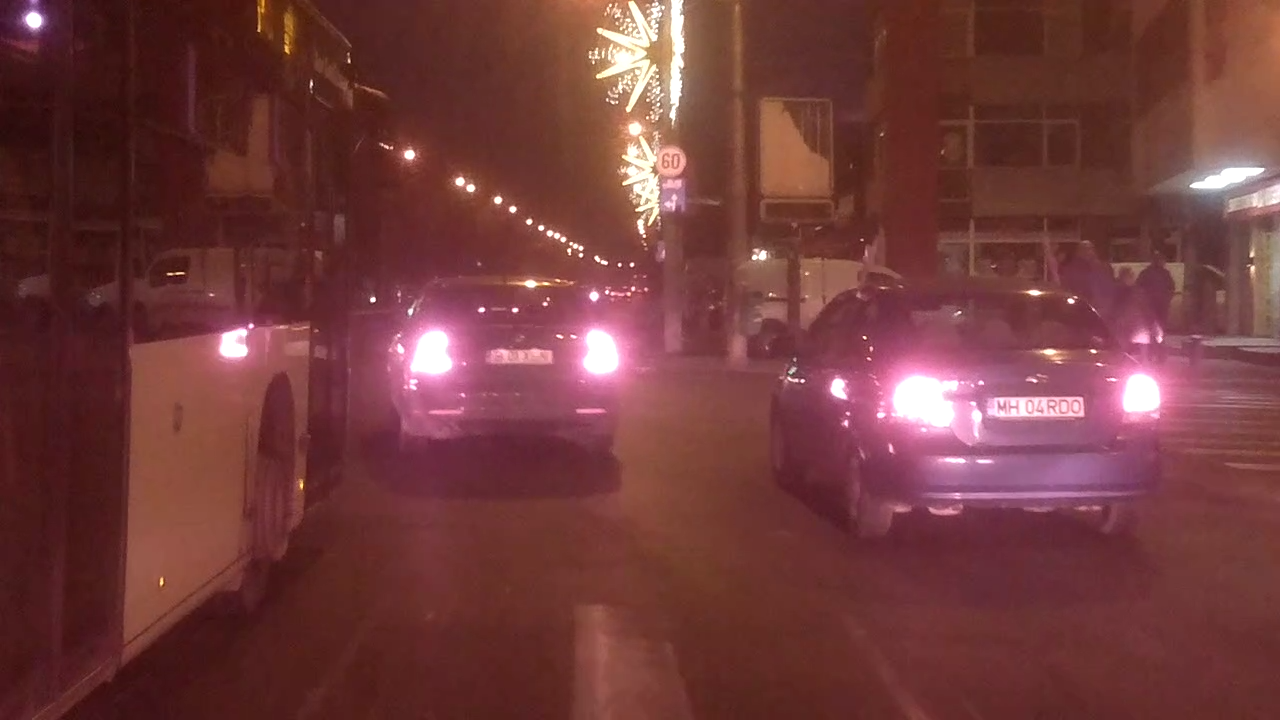license-plate: (982, 392, 1089, 420)
